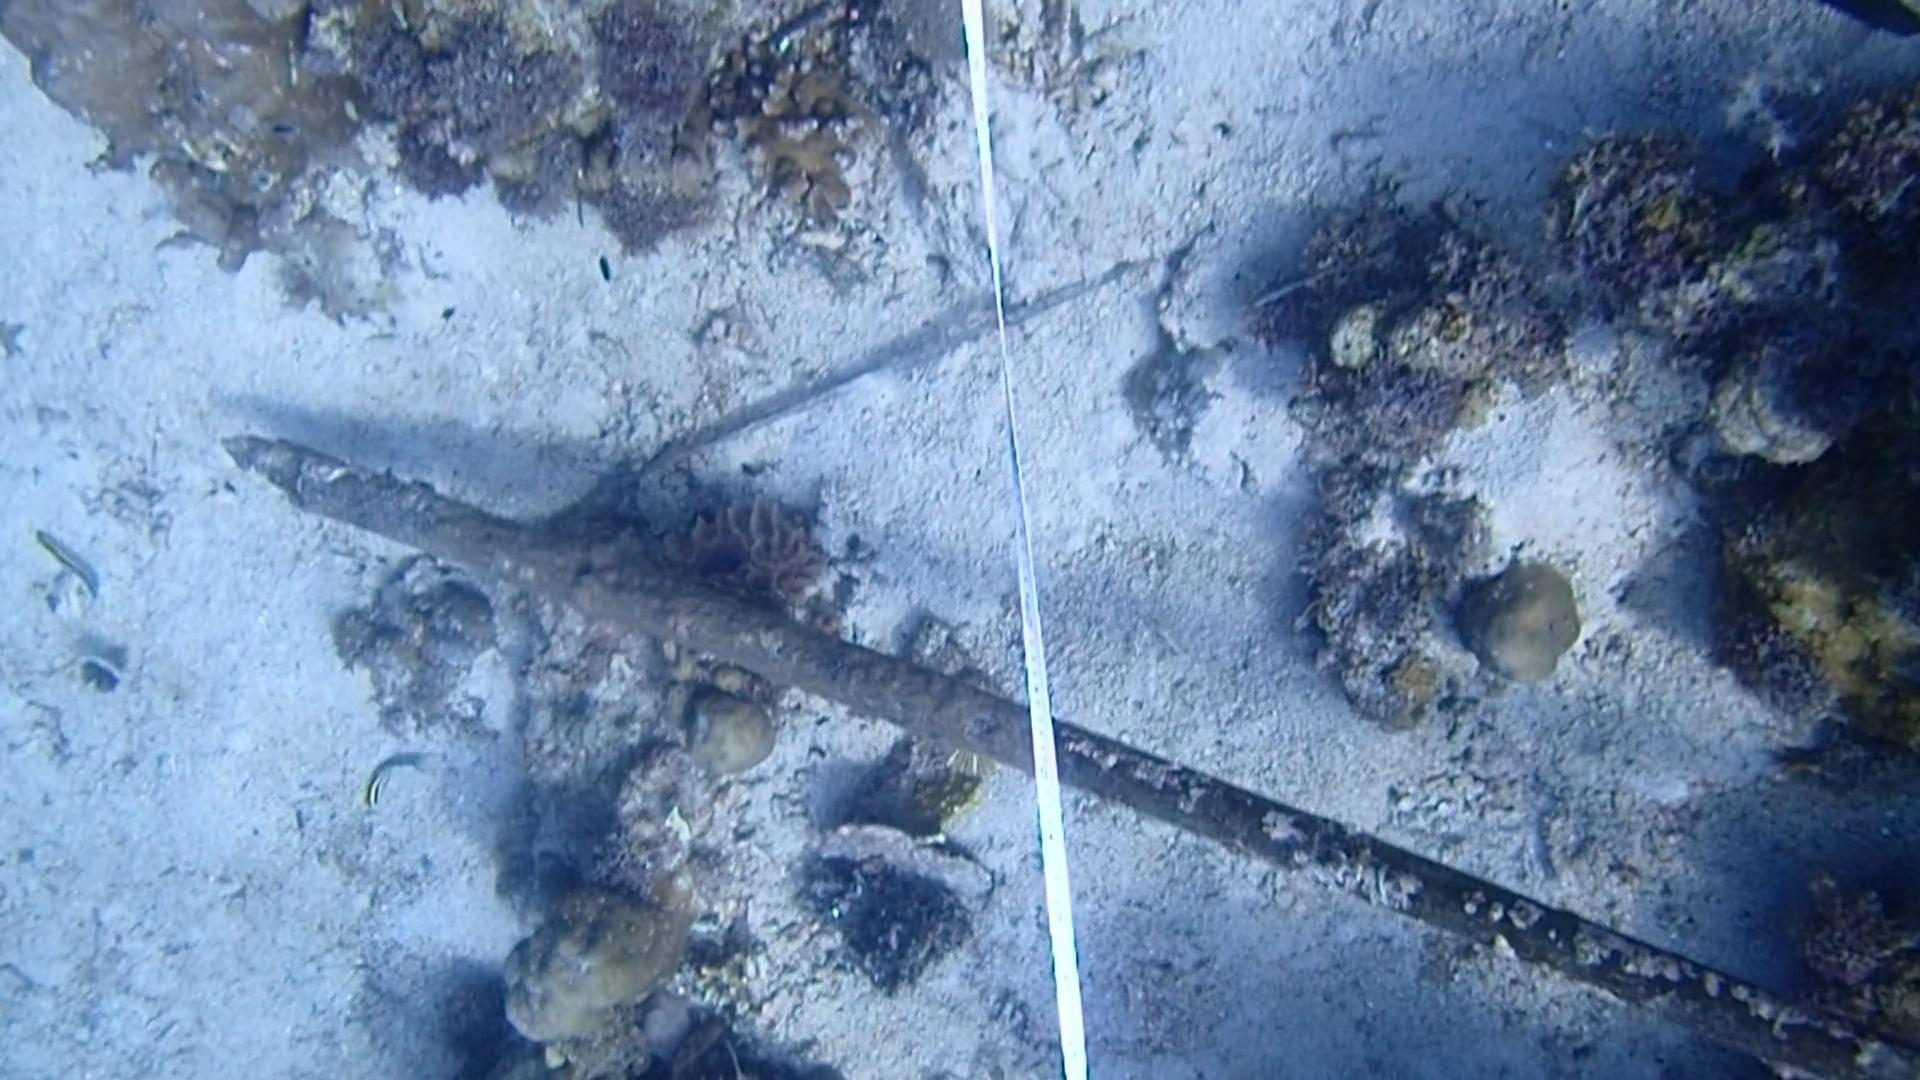Striped Fish: (34, 526, 108, 615), (347, 746, 433, 818)
